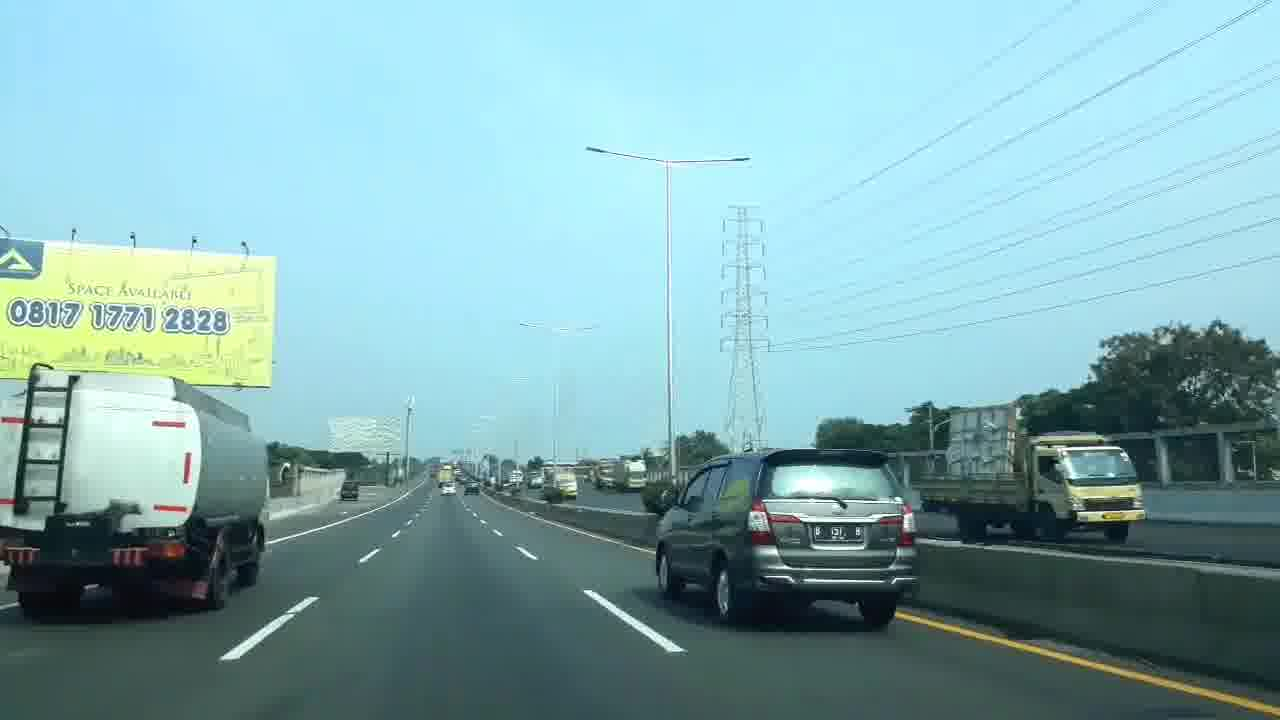plate_positive: (813, 524, 863, 545)
